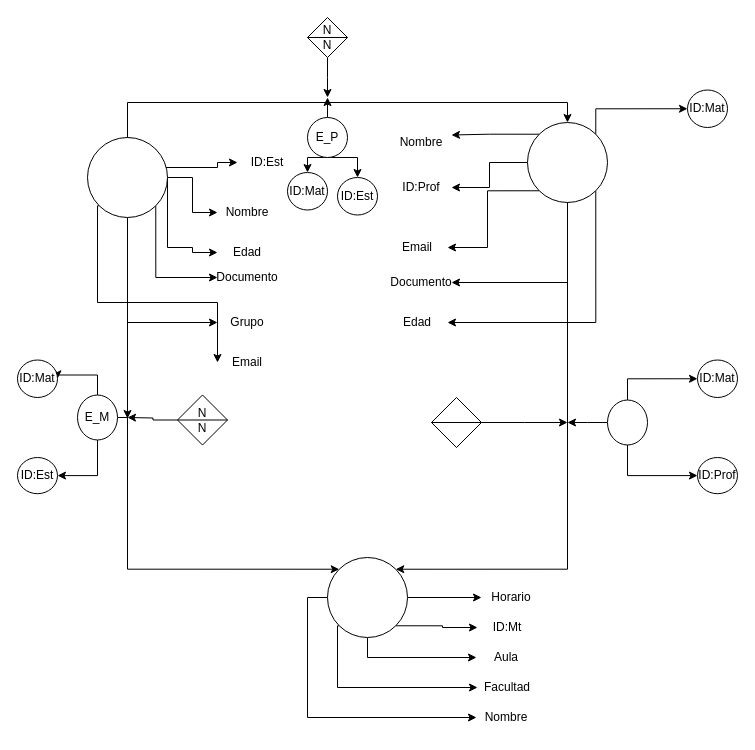
The diagram is 755 pixels wide and 750 high, and some of its shapes have lost their labels. Here are the shapes that lost their labels. From the top down, the centre of each, then its label:
(x=127, y=177): Estudiantes
(x=567, y=162): Profesor
(x=456, y=422): 1 N
(x=627, y=422): P_M
(x=367, y=597): Materia
